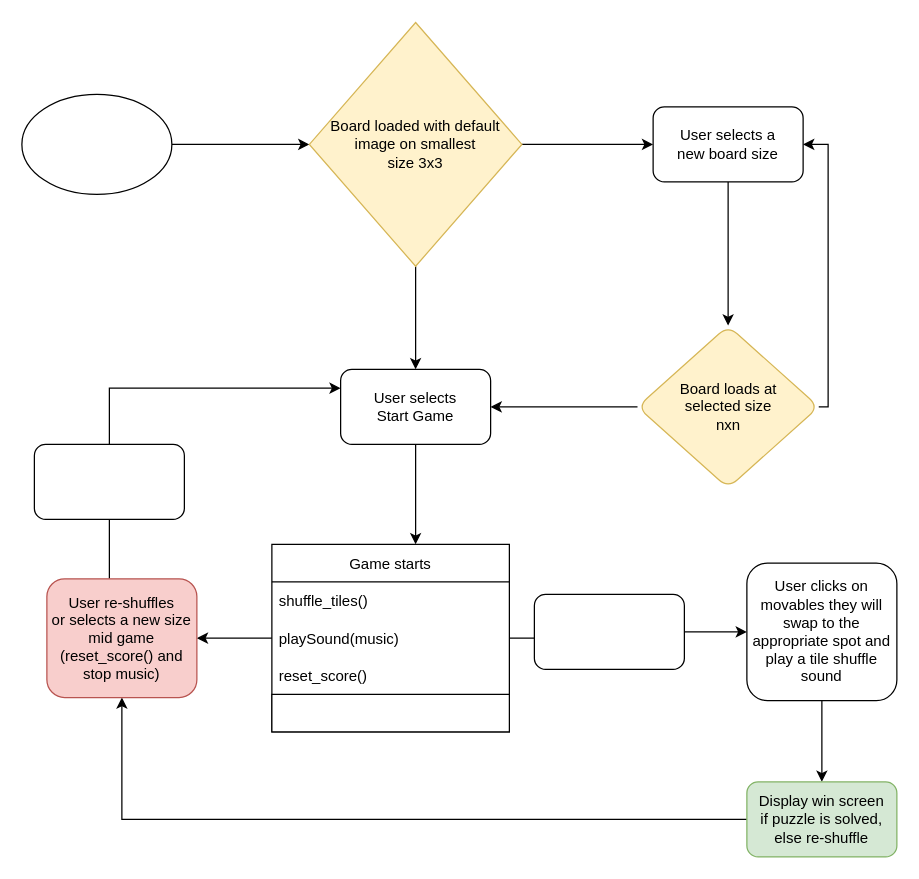
Some shapes in this 919 by 879 pixel diagram are drawn without their labels. The box of each missing label's shape, as (x1, y1, x2, y2) in pixels:
^Moves and time set to 0: (271, 693, 509, 732)
Display prompt to confirm. Else return to current game: (33, 443, 184, 519)
isMovable tiles higlight on hoover: (533, 593, 684, 669)
User loads page: (21, 93, 172, 194)
